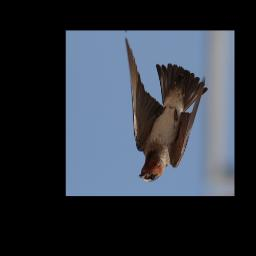Swallow: (125, 33, 209, 183)
